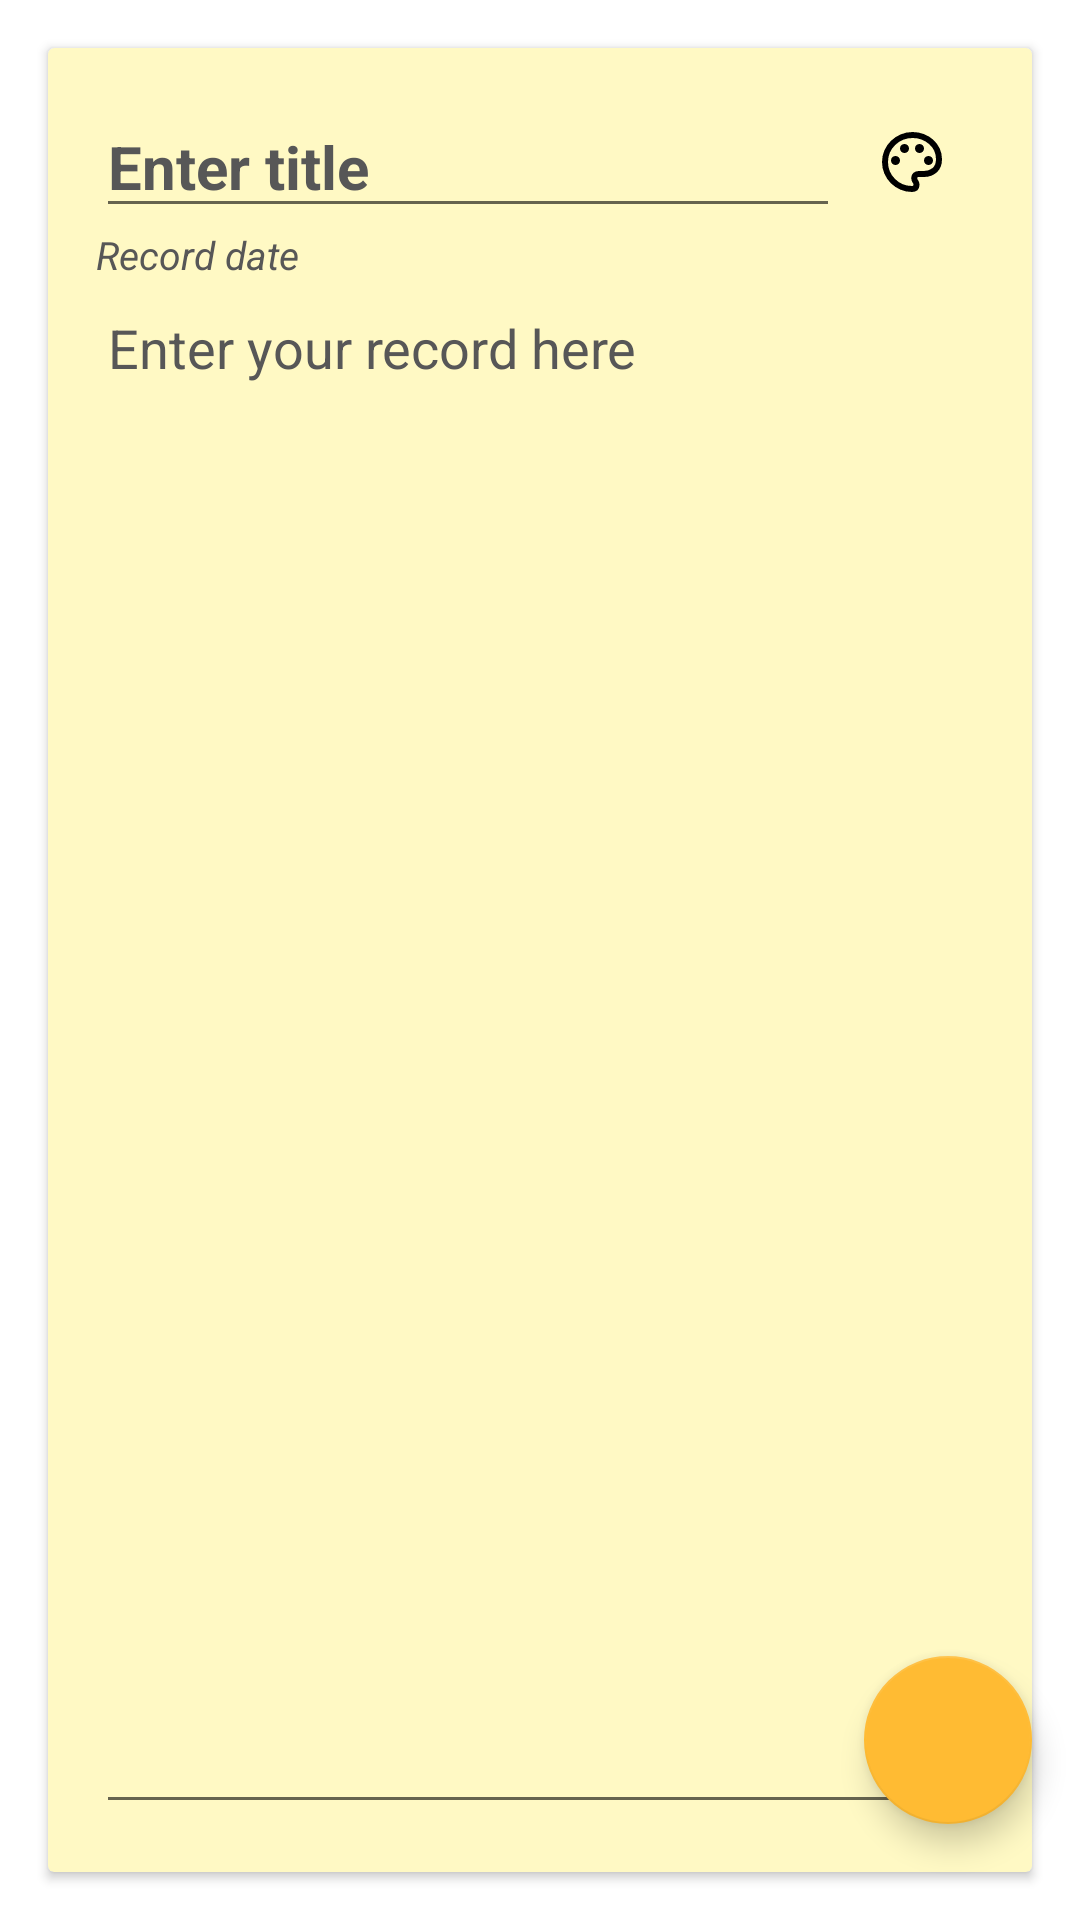

Named icons in this screenshot (1080×1920) and their centers, (x,y):
Choose color: (912,162)
